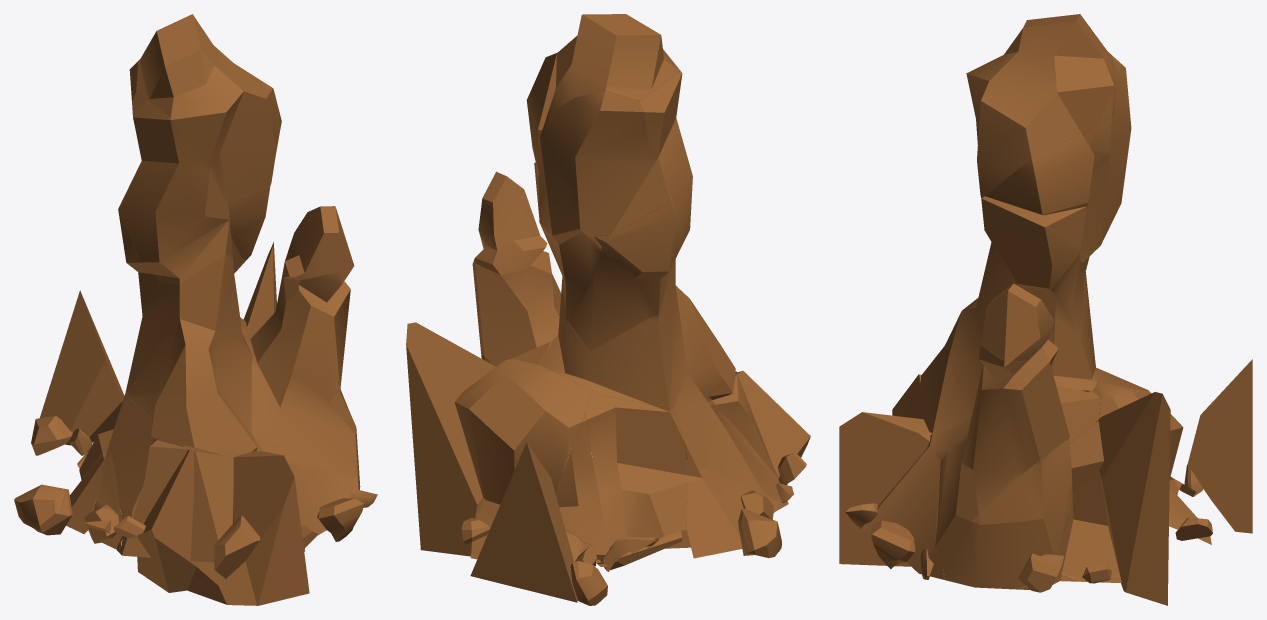
Rendered from column1.fbx.
3 renders of one model, left to right at view 1: azimuth 30°, elevation 25°; view 2: azimuth 150°, elevation 25°; view 3: azimuth 270°, elevation 25°, orthographic. The views are drawn at different scales.
Visible parts, largest first — view 1: Column01_cell.023, Column01_cell.013, Column01_cell.044, Column01_cell.032, Column01_cell.025, Column01_cell.028, Column01_cell.042, Column01_cell.008, Column01_cell.070, Column01_cell.048, Column01_cell.016, Column01_cell.005 (+12 smaller); view 2: Column01_cell.041, Column01_cell.023, Column01_cell, Column01_cell.043, Column01_cell.009, Column01_cell.028, Column01_cell.035, Column01_cell.044, Column01_cell.013, Column01_cell.048, Column01_cell.070, Column01_cell.032 (+12 smaller); view 3: Column01_cell.044, Column01_cell.013, Column01_cell.017, Column01_cell.018, Column01_cell.043, Column01_cell.023, Column01_cell.025, Column01_cell.028, Column01_cell.041, Column01_cell.070, Column01_cell.016, Column01_cell.029 (+4 smaller).
Boxes of the visible parts, bbox=[...] form: Column01_cell.023: bbox=[126, 253, 257, 456]; Column01_cell.013: bbox=[241, 261, 358, 478]; Column01_cell.044: bbox=[136, 14, 279, 202]; Column01_cell.032: bbox=[120, 92, 228, 283]; Column01_cell.025: bbox=[233, 451, 309, 605]; Column01_cell.028: bbox=[40, 290, 124, 445]; Column01_cell.042: bbox=[190, 451, 260, 579]; Column01_cell.008: bbox=[137, 446, 220, 592]; Column01_cell.070: bbox=[282, 206, 352, 279]; Column01_cell.048: bbox=[108, 399, 154, 546]; Column01_cell.016: bbox=[288, 463, 358, 551]; Column01_cell.005: bbox=[133, 423, 188, 522]; Column01_cell.041: bbox=[539, 91, 670, 322]; Column01_cell.023: bbox=[537, 259, 735, 412]; Column01_cell: bbox=[454, 359, 590, 559]; Column01_cell.043: bbox=[406, 322, 495, 556]; Column01_cell.009: bbox=[585, 393, 687, 553]; Column01_cell.028: bbox=[470, 442, 577, 602]; Column01_cell.035: bbox=[569, 202, 677, 351]; Column01_cell.044: bbox=[533, 14, 680, 112]; Column01_cell.013: bbox=[472, 234, 591, 450]; Column01_cell.048: bbox=[675, 395, 780, 501]; Column01_cell.070: bbox=[474, 171, 547, 274]; Column01_cell.032: bbox=[639, 71, 692, 253]; Column01_cell.044: bbox=[966, 14, 1119, 198]; Column01_cell.013: bbox=[930, 345, 1100, 553]; Column01_cell.017: bbox=[981, 116, 1113, 289]; Column01_cell.018: bbox=[940, 421, 1103, 589]; Column01_cell.043: bbox=[1096, 392, 1170, 605]; Column01_cell.023: bbox=[921, 244, 1104, 433]; Column01_cell.025: bbox=[839, 412, 940, 566]; Column01_cell.028: bbox=[1187, 359, 1252, 533]; Column01_cell.041: bbox=[1024, 55, 1131, 335]; Column01_cell.070: bbox=[981, 283, 1058, 365]; Column01_cell.016: bbox=[859, 442, 944, 579]; Column01_cell.029: bbox=[1059, 470, 1121, 582].
Size of the model in its own units: 871 by 1293 by 899.
